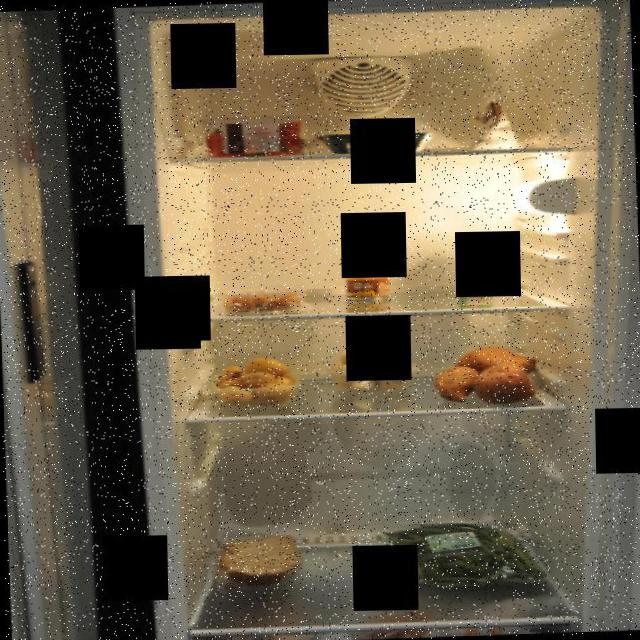Champiñones: (325, 342, 418, 396)
Gambas/Langostinos: (222, 289, 306, 314)
Patata: (210, 352, 300, 412)
